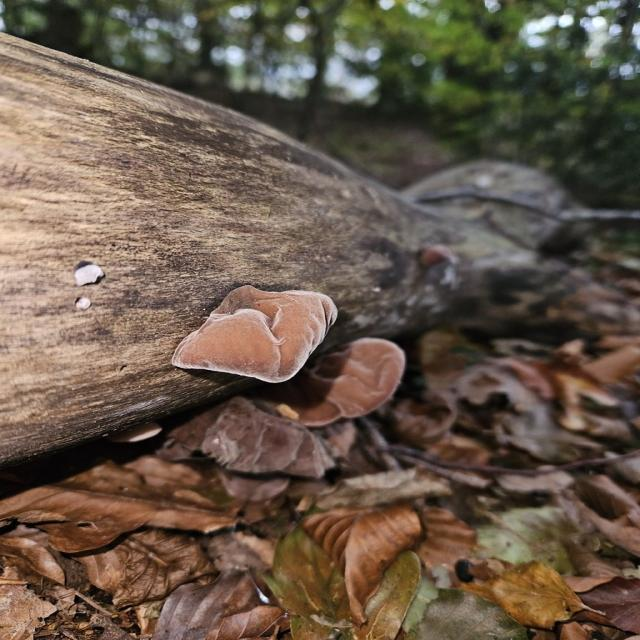Matang: (166, 277, 348, 381), (272, 351, 410, 428)
